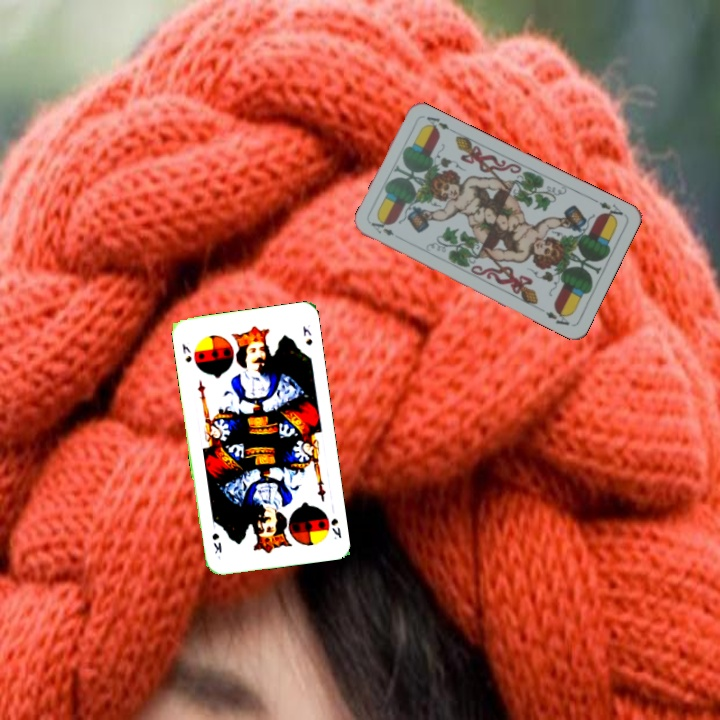EA: (589, 195, 626, 223), (367, 218, 405, 242)
SK: (327, 514, 344, 542), (178, 340, 194, 365)
